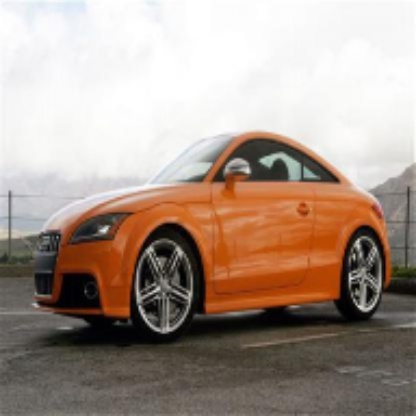Vehicle: (29, 129, 393, 342)
